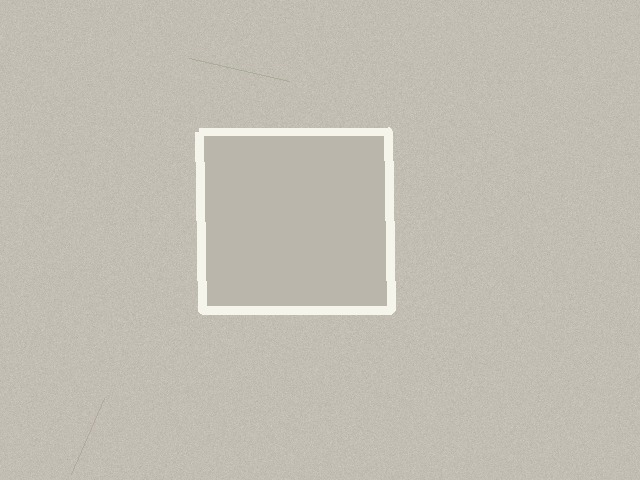parking_area: (199, 131, 391, 310)
